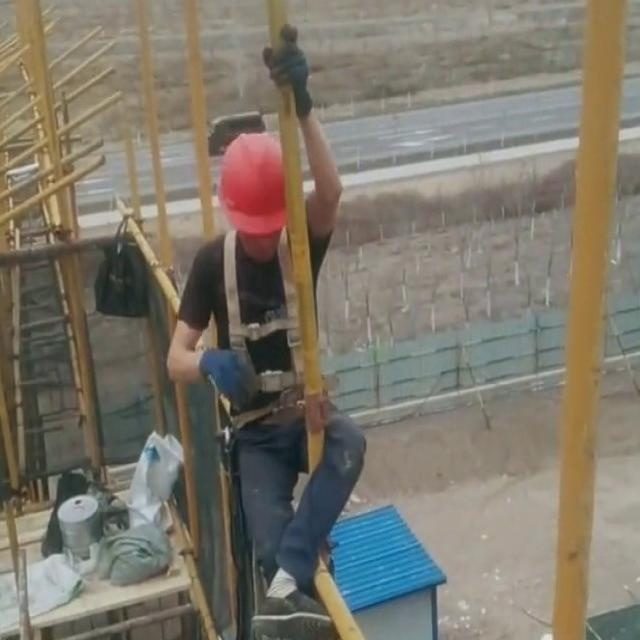Arnes_seguridad: (206, 218, 315, 394)
